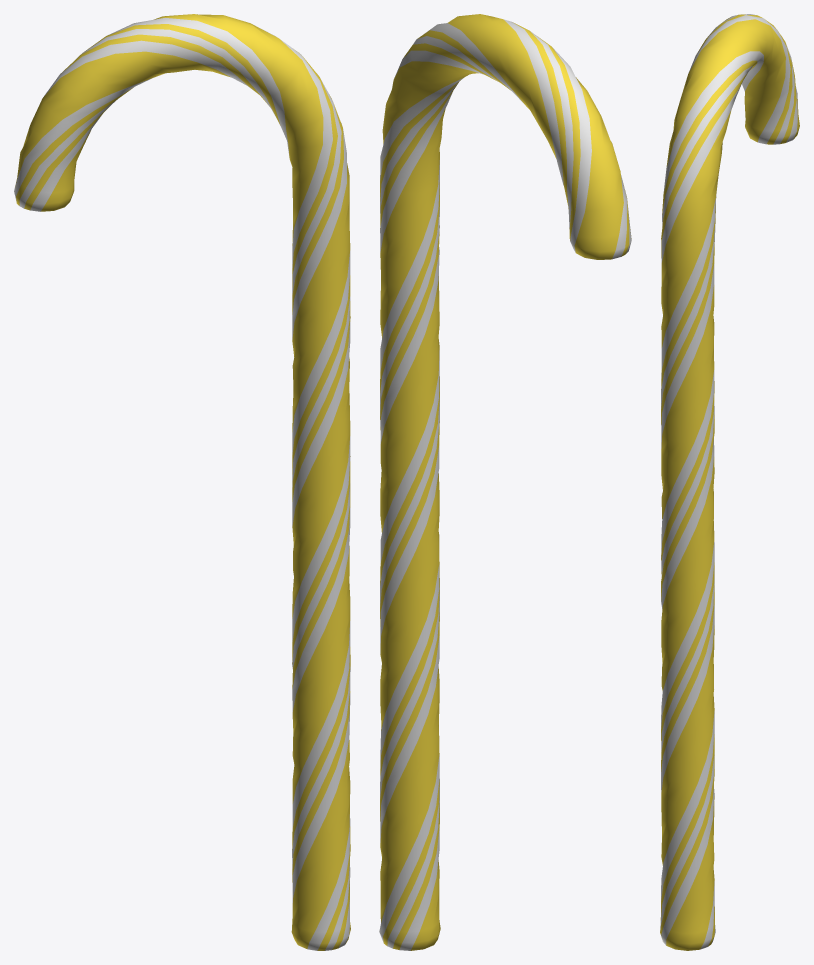
File: Polkagris_8.glb
The picture shows the model from 3 angles, left to right: view 1: azimuth 30°, elevation 25°; view 2: azimuth 150°, elevation 25°; view 3: azimuth 270°, elevation 25°; orthographic projection. The views are drawn at different scales.
Parts seen in each view (by area): view 1: Polkagrisar.008; view 2: Polkagrisar.008; view 3: Polkagrisar.008.
Boxes of the visible parts, bbox=[...] form: Polkagrisar.008: bbox=[14, 14, 350, 950]; Polkagrisar.008: bbox=[379, 14, 631, 950]; Polkagrisar.008: bbox=[660, 14, 799, 950].
Size of the model in its own units: 0.7846 by 2.48 by 0.3646.
